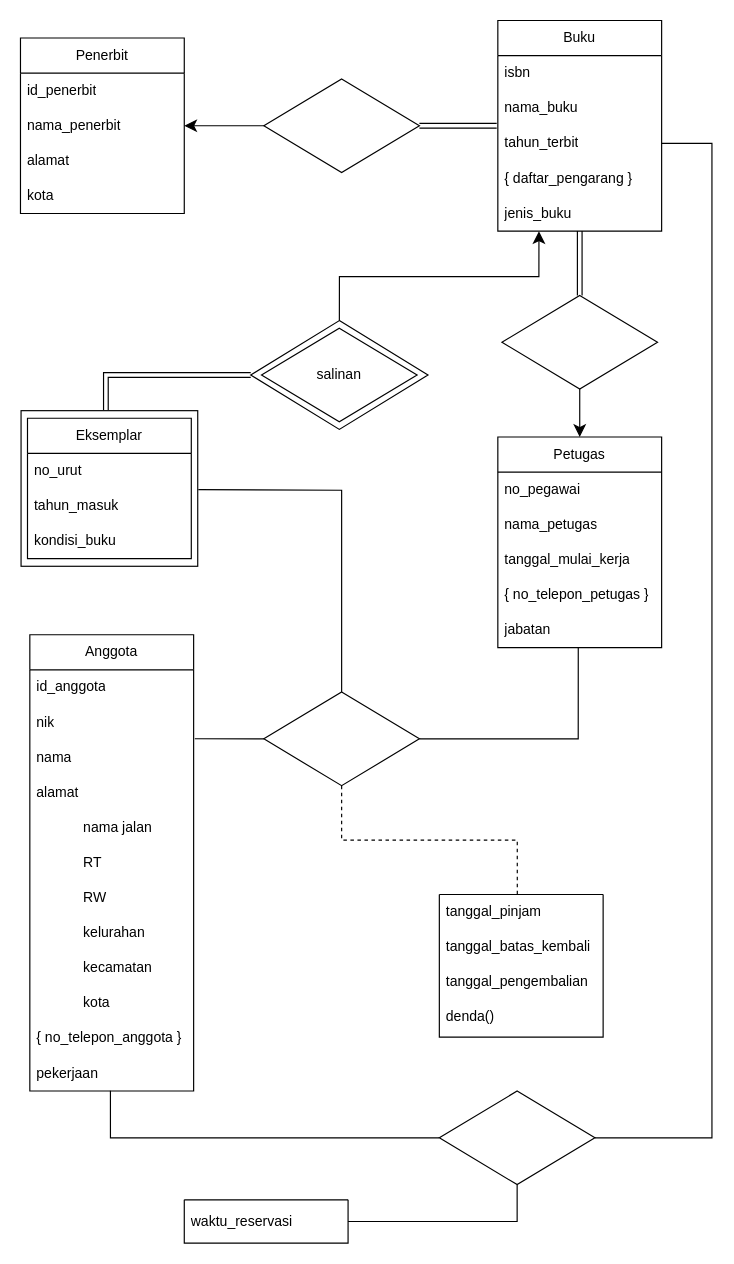
This 734x1264 diagram has some shape labels left out. The centre of each missing label's shape, as x and y in pixels:
"meminjam" goes at (x=341, y=738).
"menerbitkan" goes at (x=341, y=125).
"mengelola" goes at (x=579, y=341).
"reservasi" goes at (x=516, y=1137).
